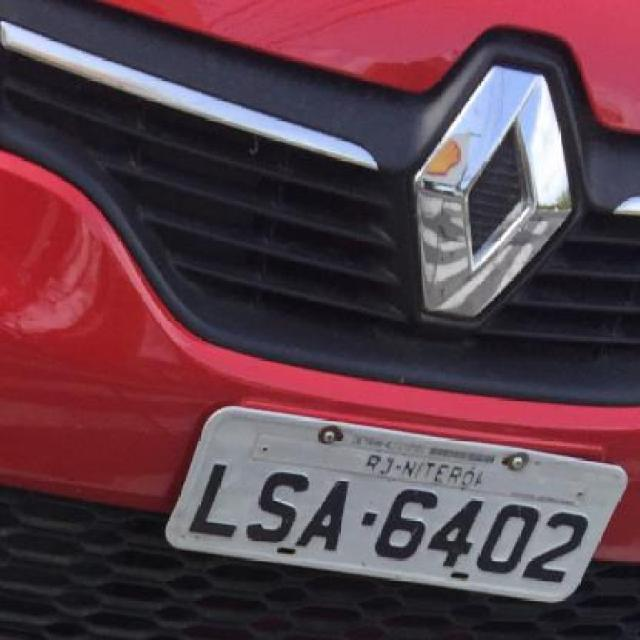old_plate: (158, 397, 633, 611)
